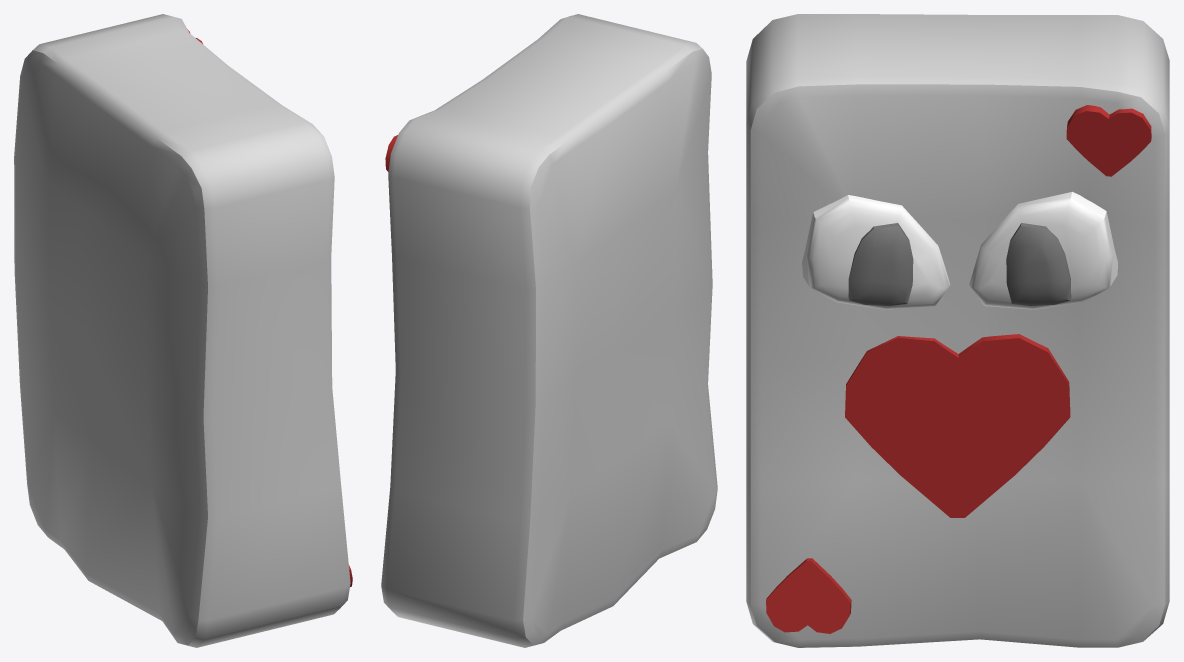
Rendered from card_body.gltf.
3 renders of one model, left to right at view 1: azimuth 30°, elevation 25°; view 2: azimuth 150°, elevation 25°; view 3: azimuth 270°, elevation 25°, orthographic. The views are drawn at different scales.
Visible parts, largest first — view 1: card_body; view 2: card_body; view 3: card_body, card_body-Mat_c_5, card_body-Mat_c_3, card_body-Mat_c_4.
Part boxes in pixels (x1,y1,x2,y2): card_body: (14, 14, 350, 647); card_body: (381, 14, 717, 647); card_body: (746, 14, 1169, 647); card_body-Mat_c_5: (766, 105, 1151, 633); card_body-Mat_c_3: (802, 191, 1117, 309); card_body-Mat_c_4: (848, 223, 1071, 306).
Size of the model in its own units: 113 by 305 by 209.
